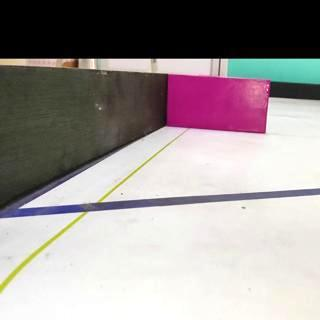xparking: (170, 76, 266, 132)
